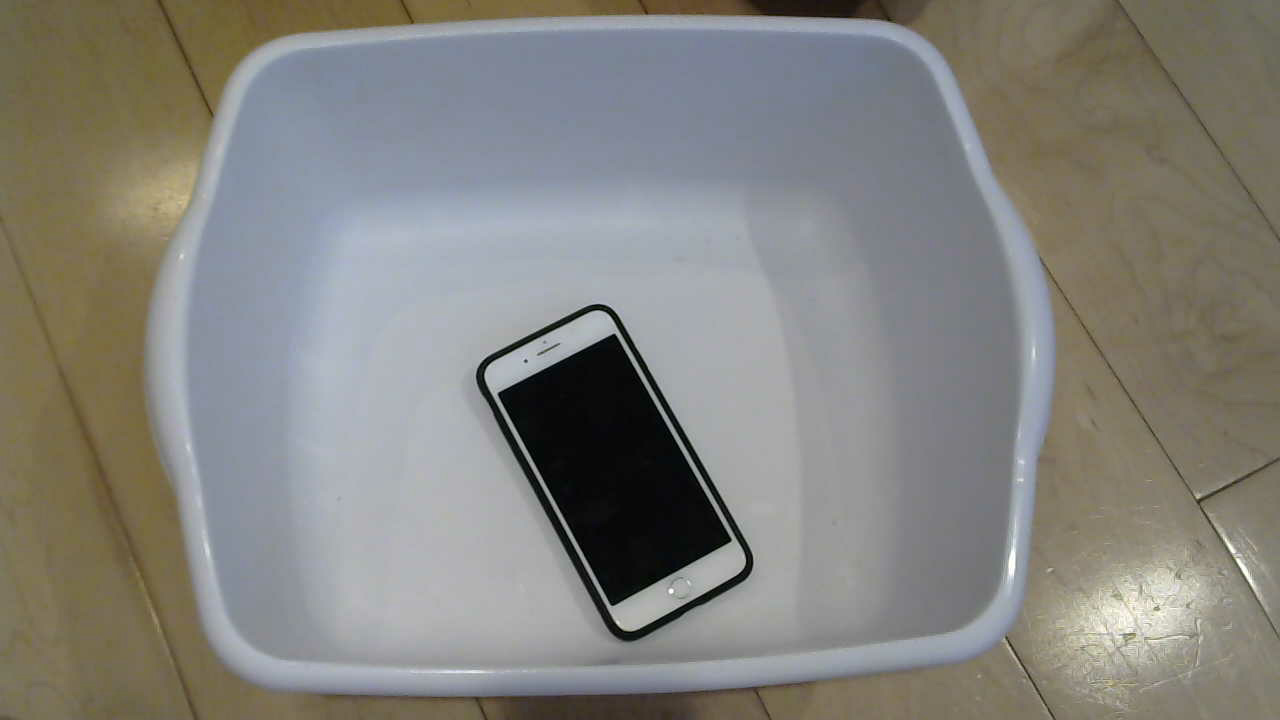phone: (483, 312, 762, 646)
